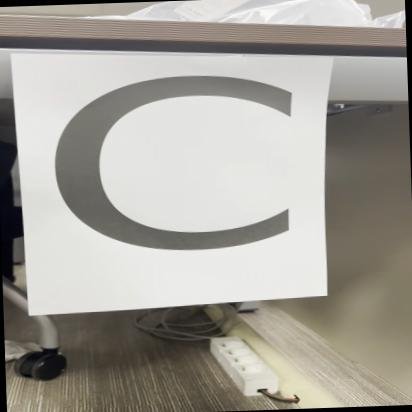seat: (24, 39, 328, 310)
